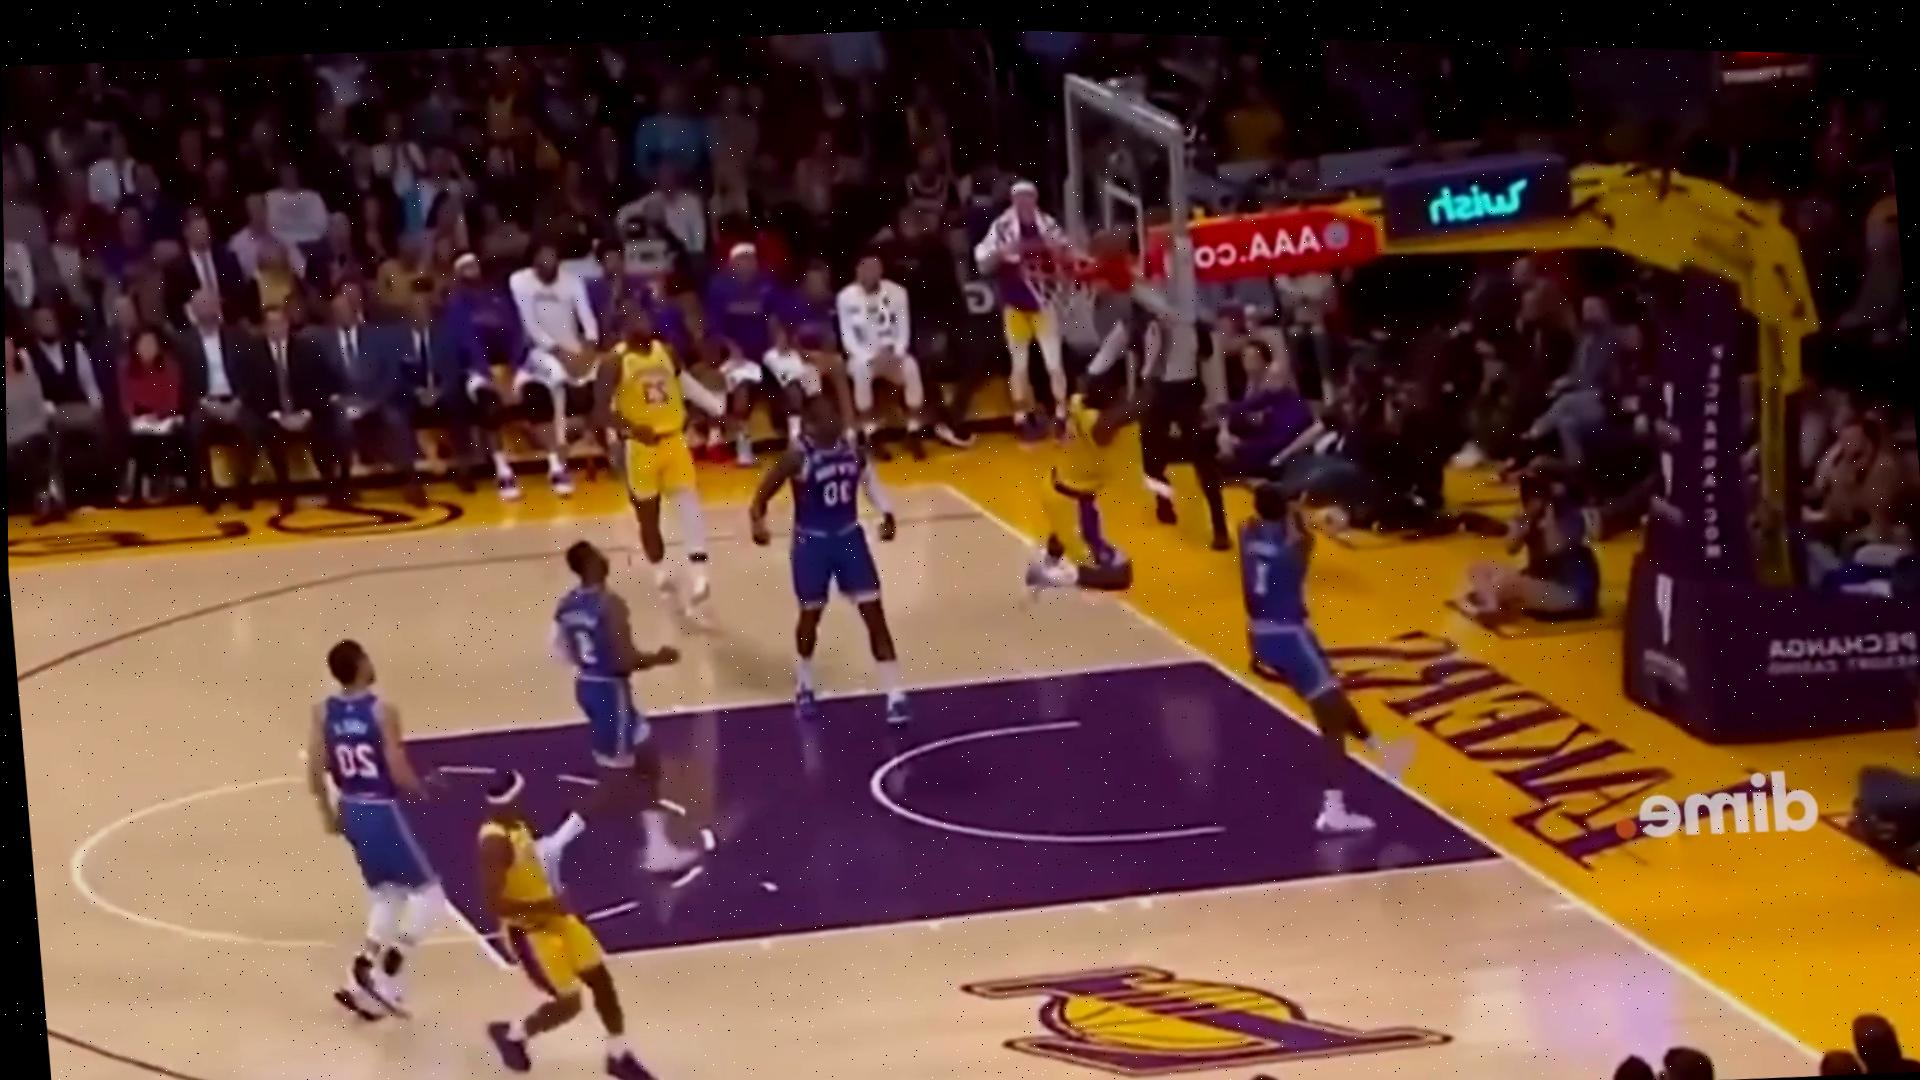no_foul: (276, 618, 636, 1080)
